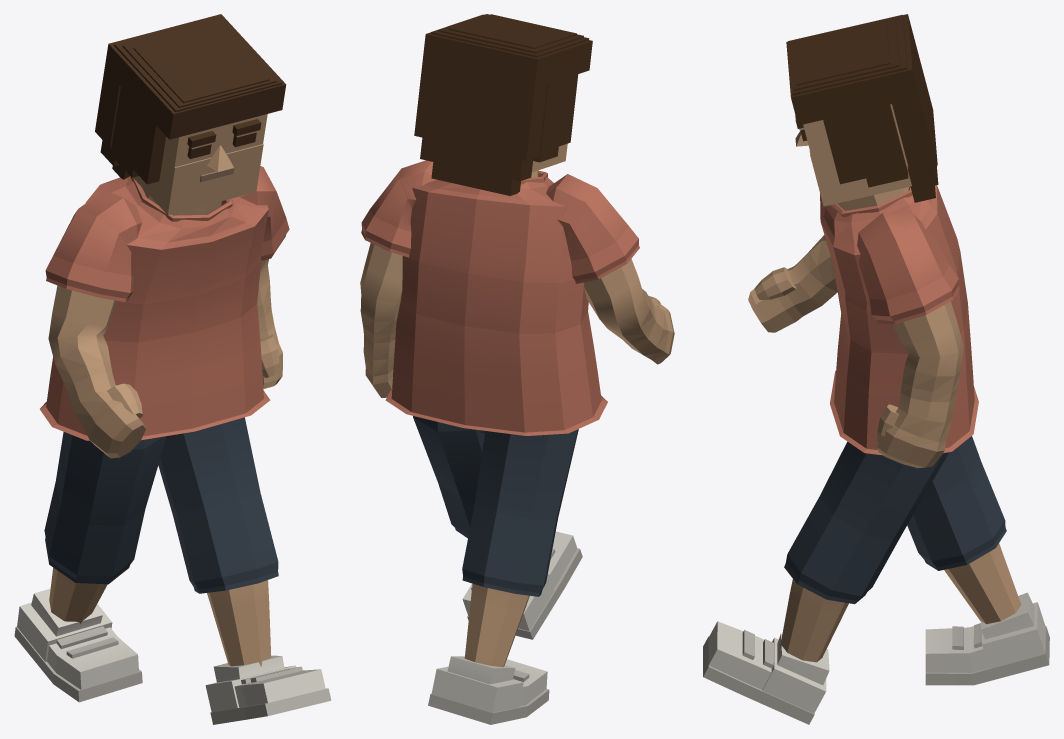
Rendered from neighborhood-child-8cc5ac__walk0.glb.
3 views of the same model, side by side, from view 1: azimuth 30°, elevation 25°; view 2: azimuth 150°, elevation 25°; view 3: azimuth 270°, elevation 25° (orthographic). The views are drawn at different scales.
Visible parts, largest first — view 1: neighborhood-child-8cc5ac__walk0; view 2: neighborhood-child-8cc5ac__walk0; view 3: neighborhood-child-8cc5ac__walk0.
Boxes of the visible parts, x1=… form: neighborhood-child-8cc5ac__walk0: x1=14, y1=14, x2=331, y2=724; neighborhood-child-8cc5ac__walk0: x1=360, y1=14, x2=674, y2=724; neighborhood-child-8cc5ac__walk0: x1=703, y1=14, x2=1049, y2=724.
Bounding box in the file's own units: 0.4781 × 1.16 × 0.5579.
